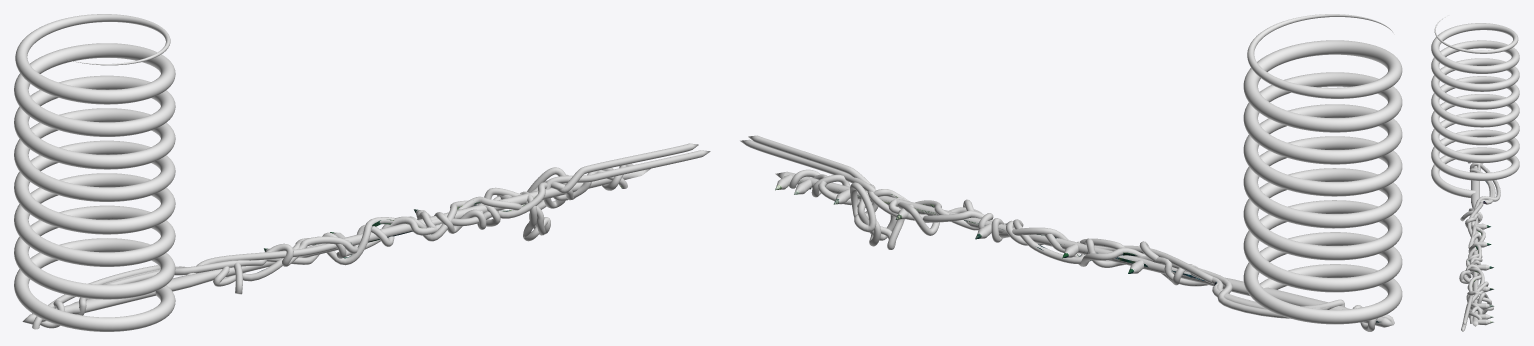
The model's file is sableTexturizado.fbx.
3 renders of one model, left to right at view 1: azimuth 30°, elevation 25°; view 2: azimuth 150°, elevation 25°; view 3: azimuth 270°, elevation 25°, orthographic. The views are drawn at different scales.
Parts seen in each view (by area): view 1: Sphere.001, BézierCurve.001, parte enredada .001; view 2: Sphere.001, parte enredada .001, BézierCurve.001, sabel, sable final; view 3: Sphere.001, parte enredada .001, BézierCurve.001, sabel, sable final.
Part boxes in pixels (x1,y1,x2,y2): Sphere.001: [14, 14, 175, 331]; BézierCurve.001: [32, 143, 710, 329]; parte enredada .001: [22, 165, 650, 328]; Sphere.001: [1243, 14, 1402, 324]; parte enredada .001: [775, 169, 1393, 331]; BézierCurve.001: [740, 135, 1394, 323]; sabel: [776, 174, 1333, 309]; sable final: [775, 176, 1380, 322]; Sphere.001: [1431, 17, 1519, 197]; parte enredada .001: [1460, 162, 1492, 326]; BézierCurve.001: [1459, 162, 1500, 331]; sabel: [1472, 172, 1495, 325]; sable final: [1468, 181, 1494, 323].
Size of the model in its own units: 1064 by 478 by 220.
Materials: 1 (1 with a texture image).
